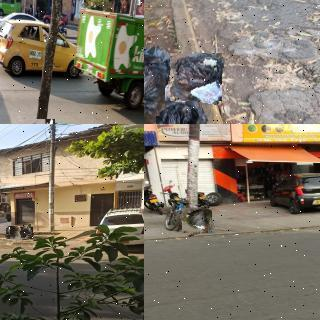Garbage: (168, 51, 224, 103), (144, 59, 166, 113), (181, 206, 214, 235), (15, 226, 34, 240), (6, 226, 20, 240), (36, 119, 54, 124)
